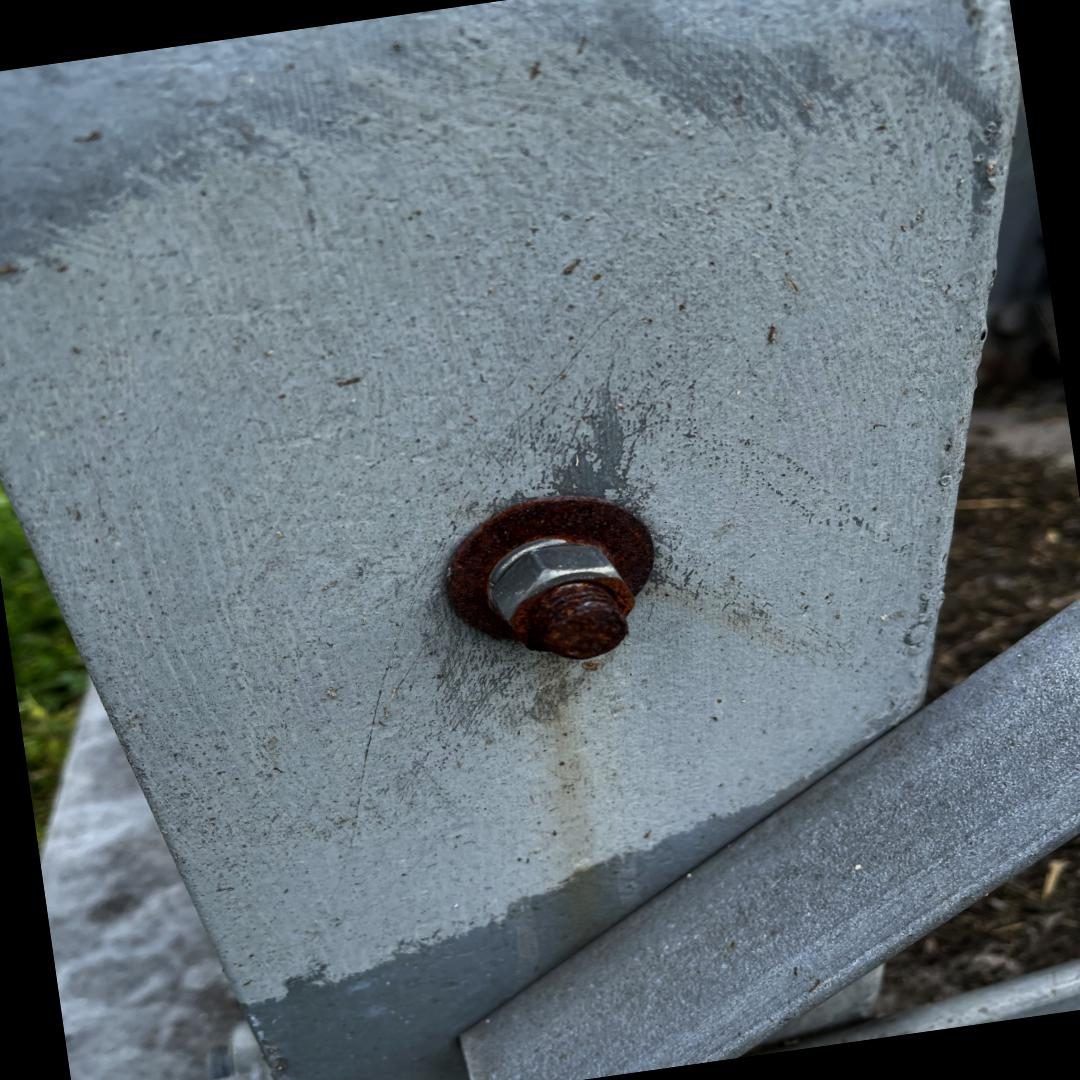Metal corroido: (444, 493, 656, 659)
Tornillo sin corrosion: (490, 537, 622, 623)
